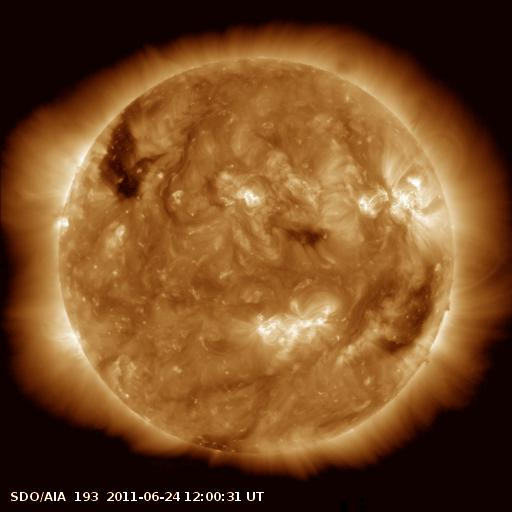coronal_hole: (93, 101, 156, 205), (382, 269, 442, 356), (281, 226, 330, 248)
